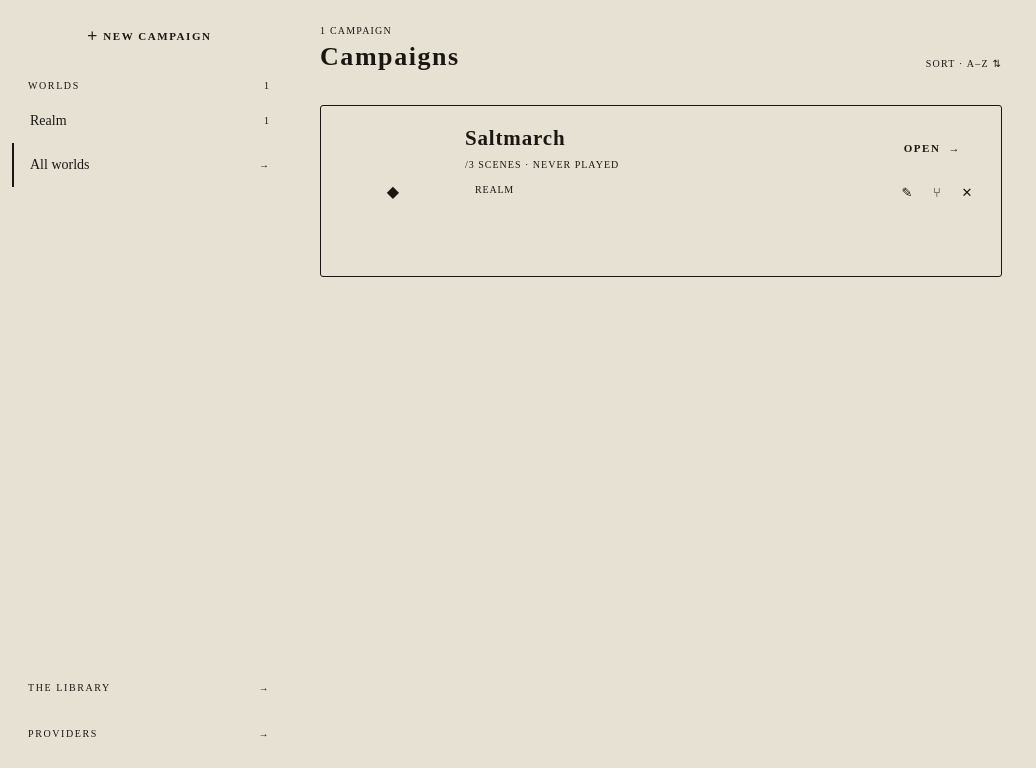
Test: what a fork could not put back is reported on the shelf
This screenshot has width=1036, height=768.
Expected: the link "Saltmarch" is shown, [465,126,566,150]
Click the button named "Fork Saltmarch" at coordinates (937, 192), box [923,178,951,206]
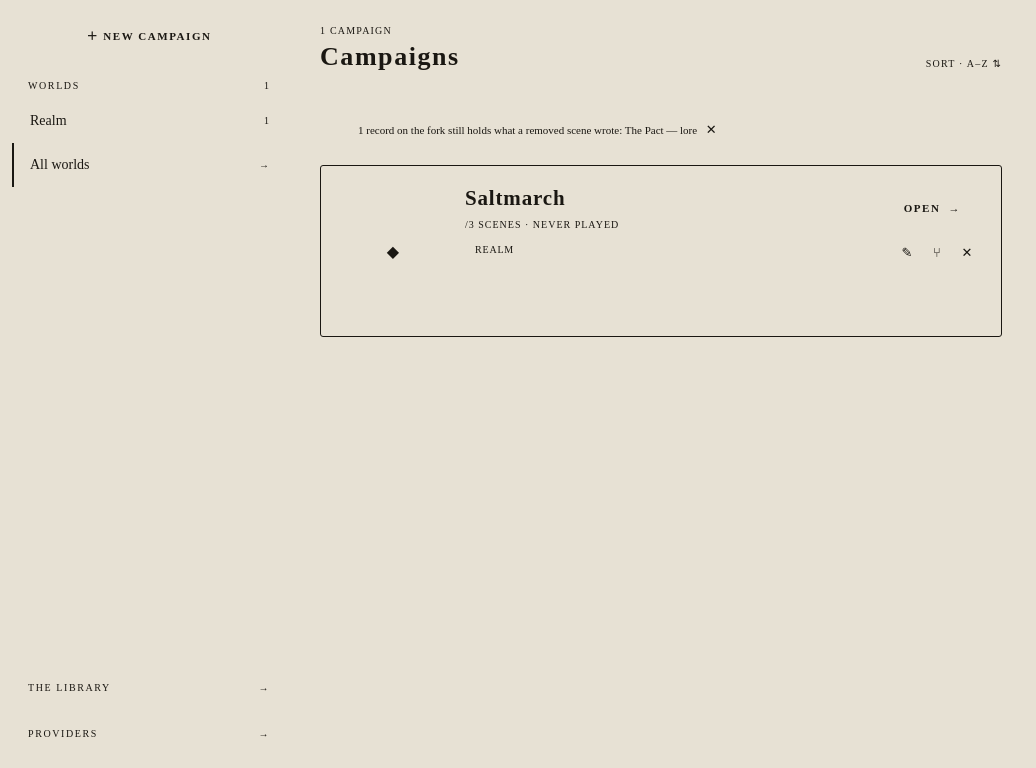
Expected: the text "1 record on the fork still holds what a removed scene wrote: The Pact — lore ✕" is shown, [358,115,725,143]
Expected: the text "still holds what a removed scene wrote" is shown, [358,124,697,136]
